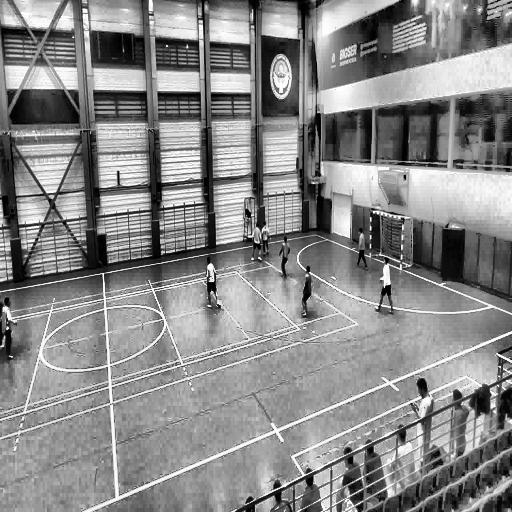player: (410, 378, 434, 470), (0, 295, 17, 358), (376, 256, 392, 313), (205, 256, 220, 310), (301, 264, 312, 318), (355, 228, 367, 270), (251, 222, 263, 263), (279, 236, 290, 279), (260, 219, 271, 259)
